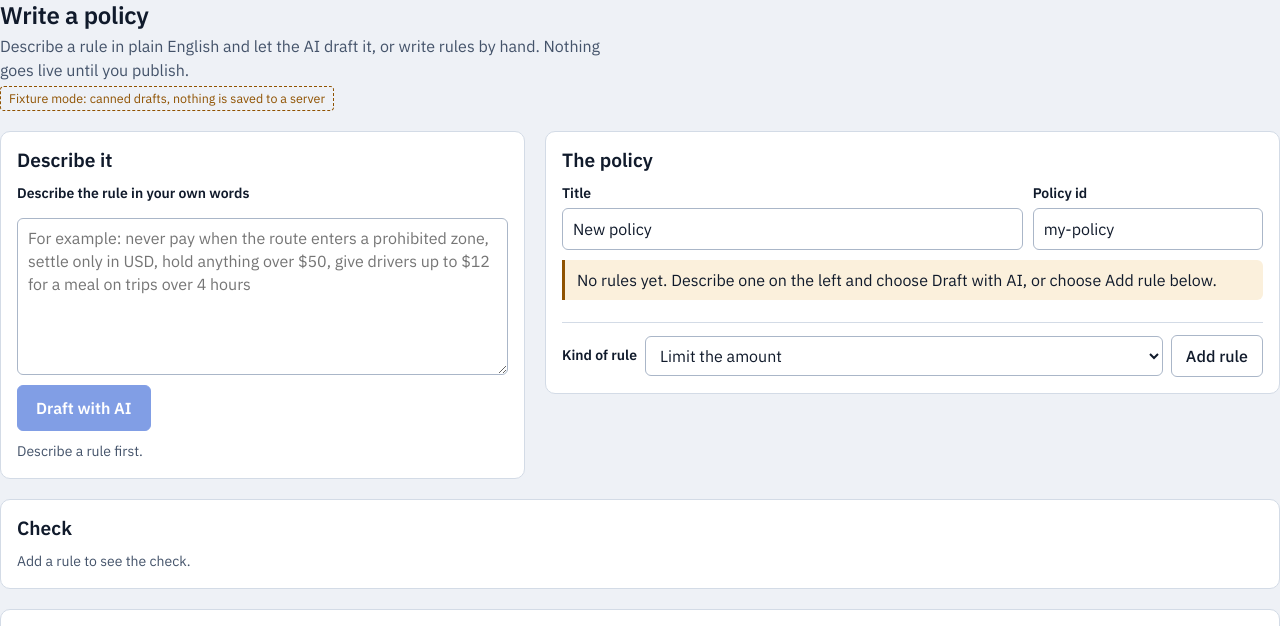
Test: AuthorView › shows the AI-unavailable state and disables drafting
In the text box labelled "Describe the rule in your own words": point(262, 296) [17,218,508,375], type "hold anything over $50"
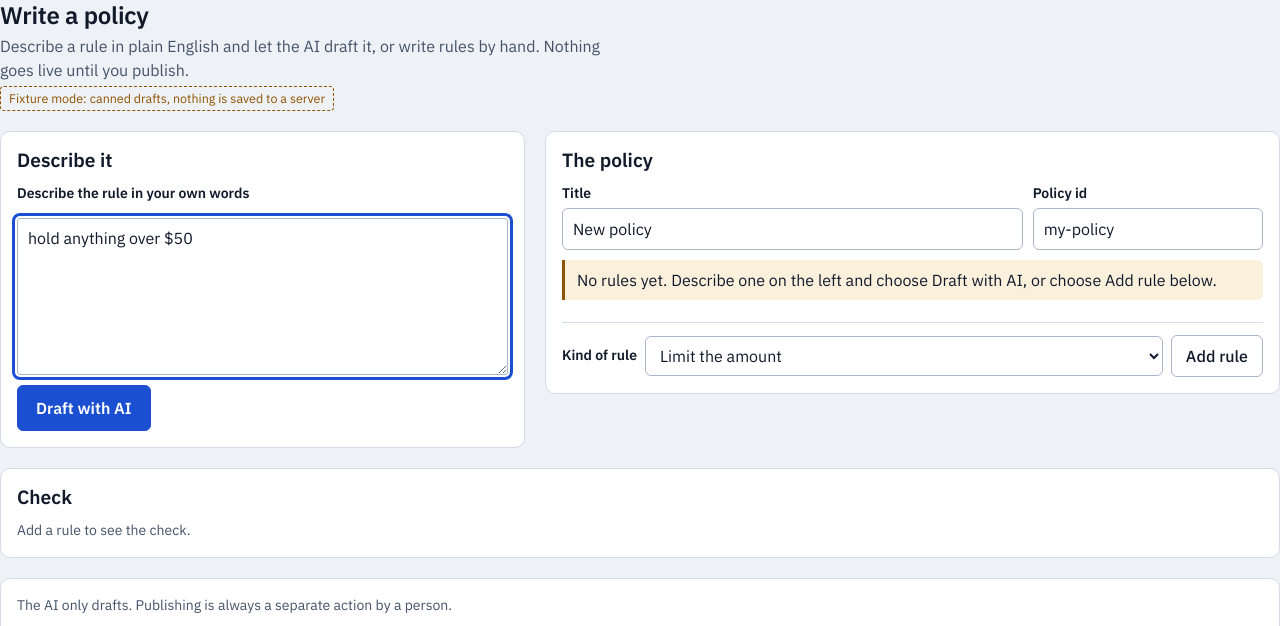
Click the button "Draft with AI": point(84, 408) [17,385,151,431]
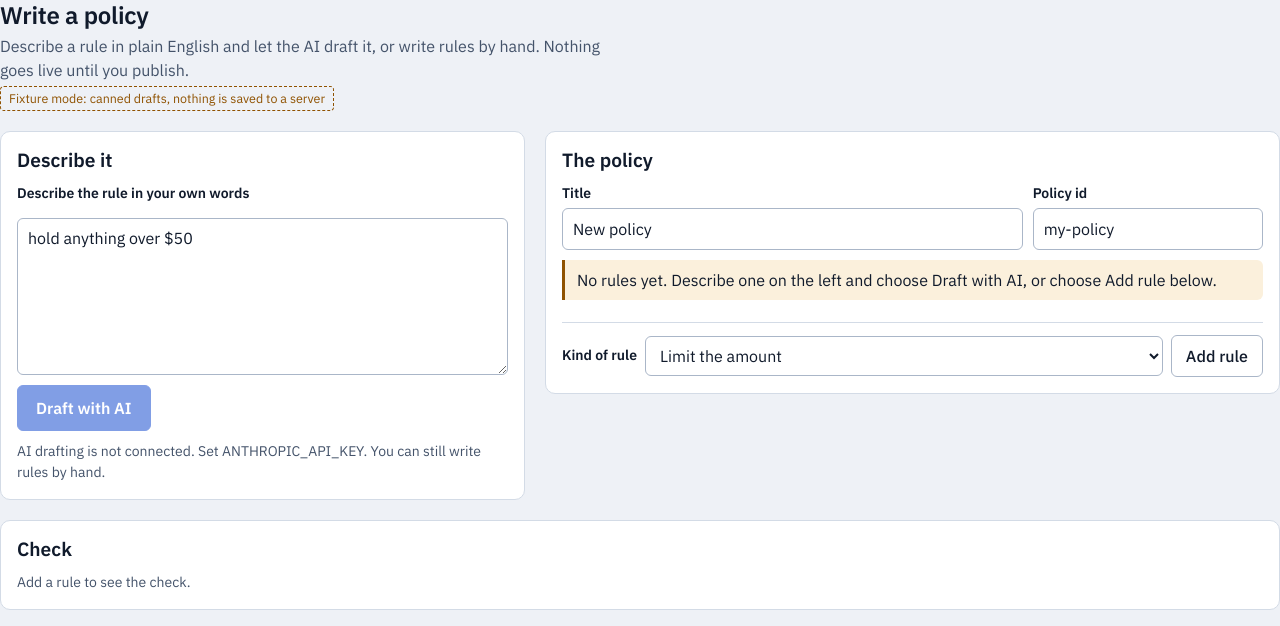
Result: the text "AI drafting is not connected. Set ANTHROPIC_API_KEY. You can still write rules by hand." is shown at [17,442,481,481]
Result: the button "Draft with AI" is disabled at [17,385,151,431]
